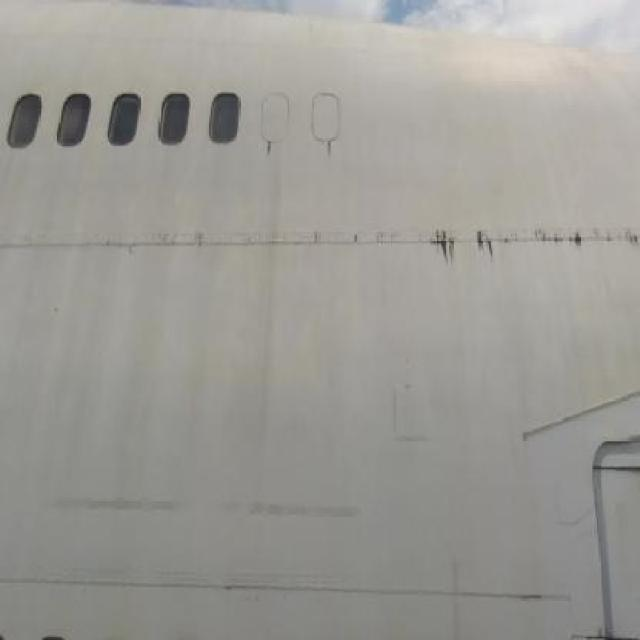Rust: (420, 214, 640, 277), (263, 139, 277, 163), (324, 141, 338, 164)
Scartch: (36, 472, 376, 531)
